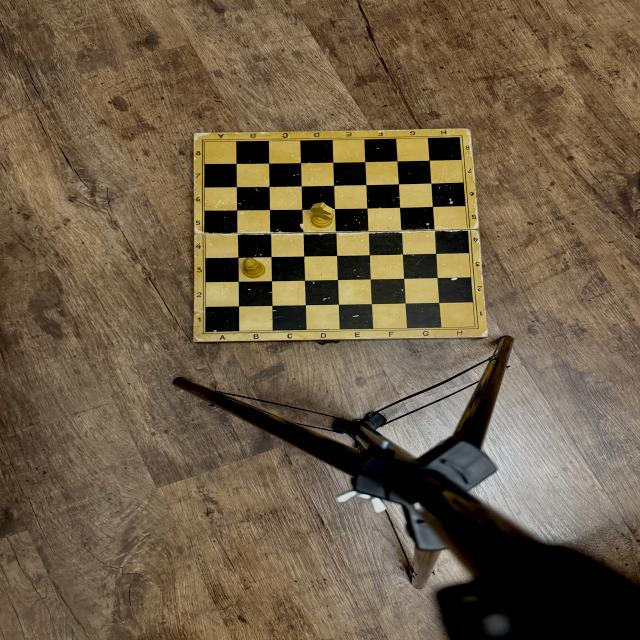white-bishop: (242, 257, 266, 279)
white-knight: (310, 202, 335, 228)
